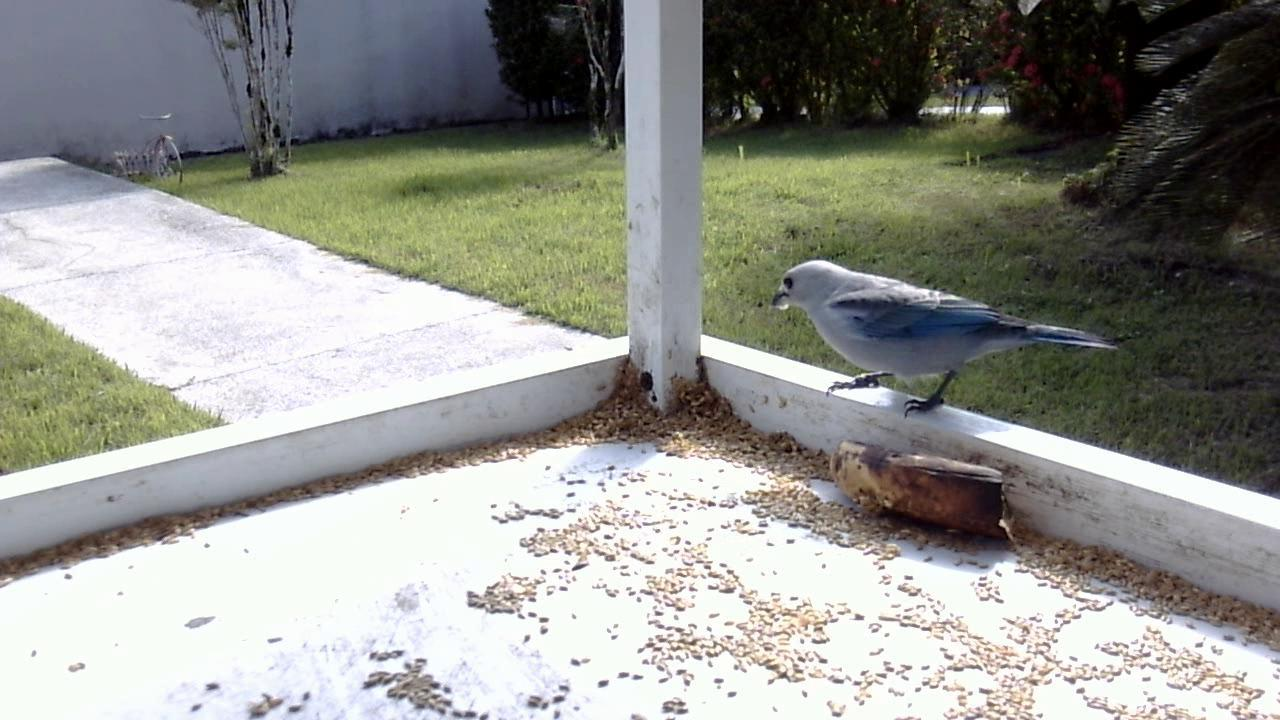sanhaco_da_amazonia: (769, 252, 1116, 425)
